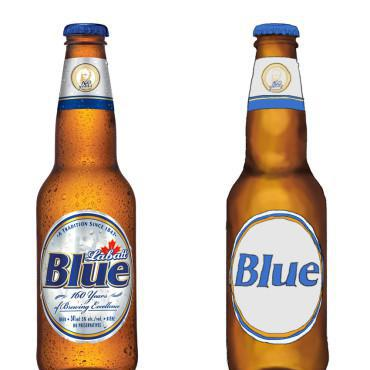beer: (37, 21, 333, 370)
